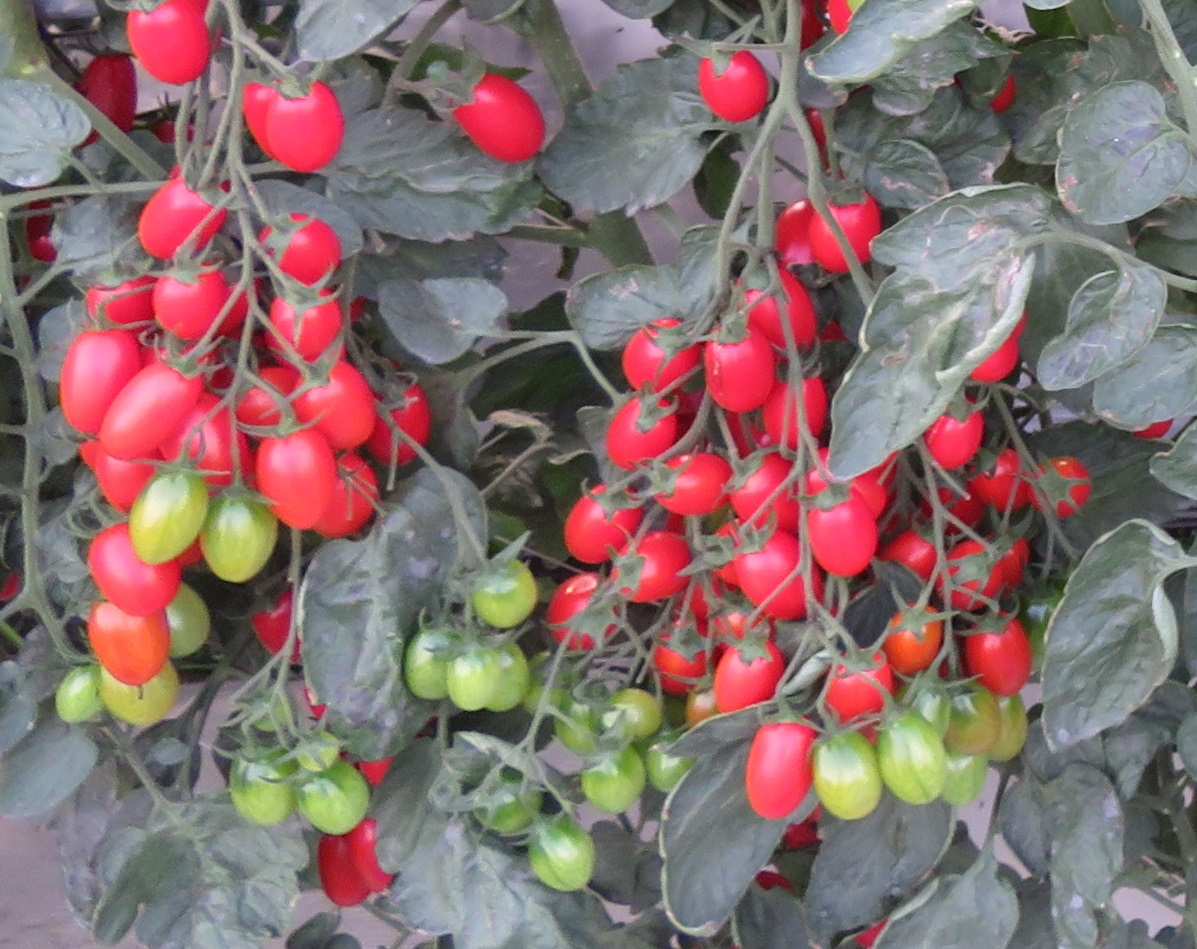green: (130, 454, 213, 566), (193, 486, 281, 591), (869, 710, 953, 805), (277, 762, 378, 836), (89, 663, 194, 728), (516, 816, 601, 894), (813, 727, 878, 826), (222, 741, 291, 828), (578, 738, 647, 820), (472, 557, 542, 622), (397, 624, 453, 704), (163, 590, 218, 660), (47, 653, 96, 731), (898, 673, 953, 738), (443, 648, 495, 714), (591, 689, 659, 736), (954, 687, 998, 756), (281, 722, 346, 768), (490, 639, 533, 708), (555, 689, 597, 759), (650, 738, 698, 794), (995, 696, 1028, 766), (948, 759, 989, 802)
orange: (88, 606, 169, 683), (966, 619, 1027, 685), (879, 605, 938, 668)
red: (105, 354, 207, 455), (733, 528, 824, 623), (129, 180, 230, 263), (58, 329, 139, 432), (454, 73, 540, 164), (734, 267, 818, 360), (259, 433, 336, 531), (743, 714, 810, 823), (297, 360, 378, 448), (122, 8, 213, 86), (263, 83, 342, 169), (810, 186, 881, 276), (620, 316, 700, 395), (805, 499, 881, 580), (547, 571, 622, 650), (728, 450, 802, 525), (566, 483, 634, 561), (368, 380, 430, 465), (651, 454, 729, 518), (704, 330, 764, 412), (258, 213, 337, 275), (652, 617, 713, 696), (694, 57, 767, 122), (619, 531, 687, 599), (768, 372, 830, 446), (322, 452, 377, 535), (87, 527, 147, 603), (940, 540, 1005, 610), (265, 297, 339, 356), (152, 269, 223, 330), (250, 596, 310, 668), (1022, 455, 1083, 522), (606, 405, 673, 464), (718, 645, 777, 708), (84, 280, 152, 334), (882, 526, 944, 579), (936, 411, 986, 473), (351, 822, 391, 899), (772, 197, 812, 267), (316, 830, 350, 906), (973, 342, 1021, 384)
